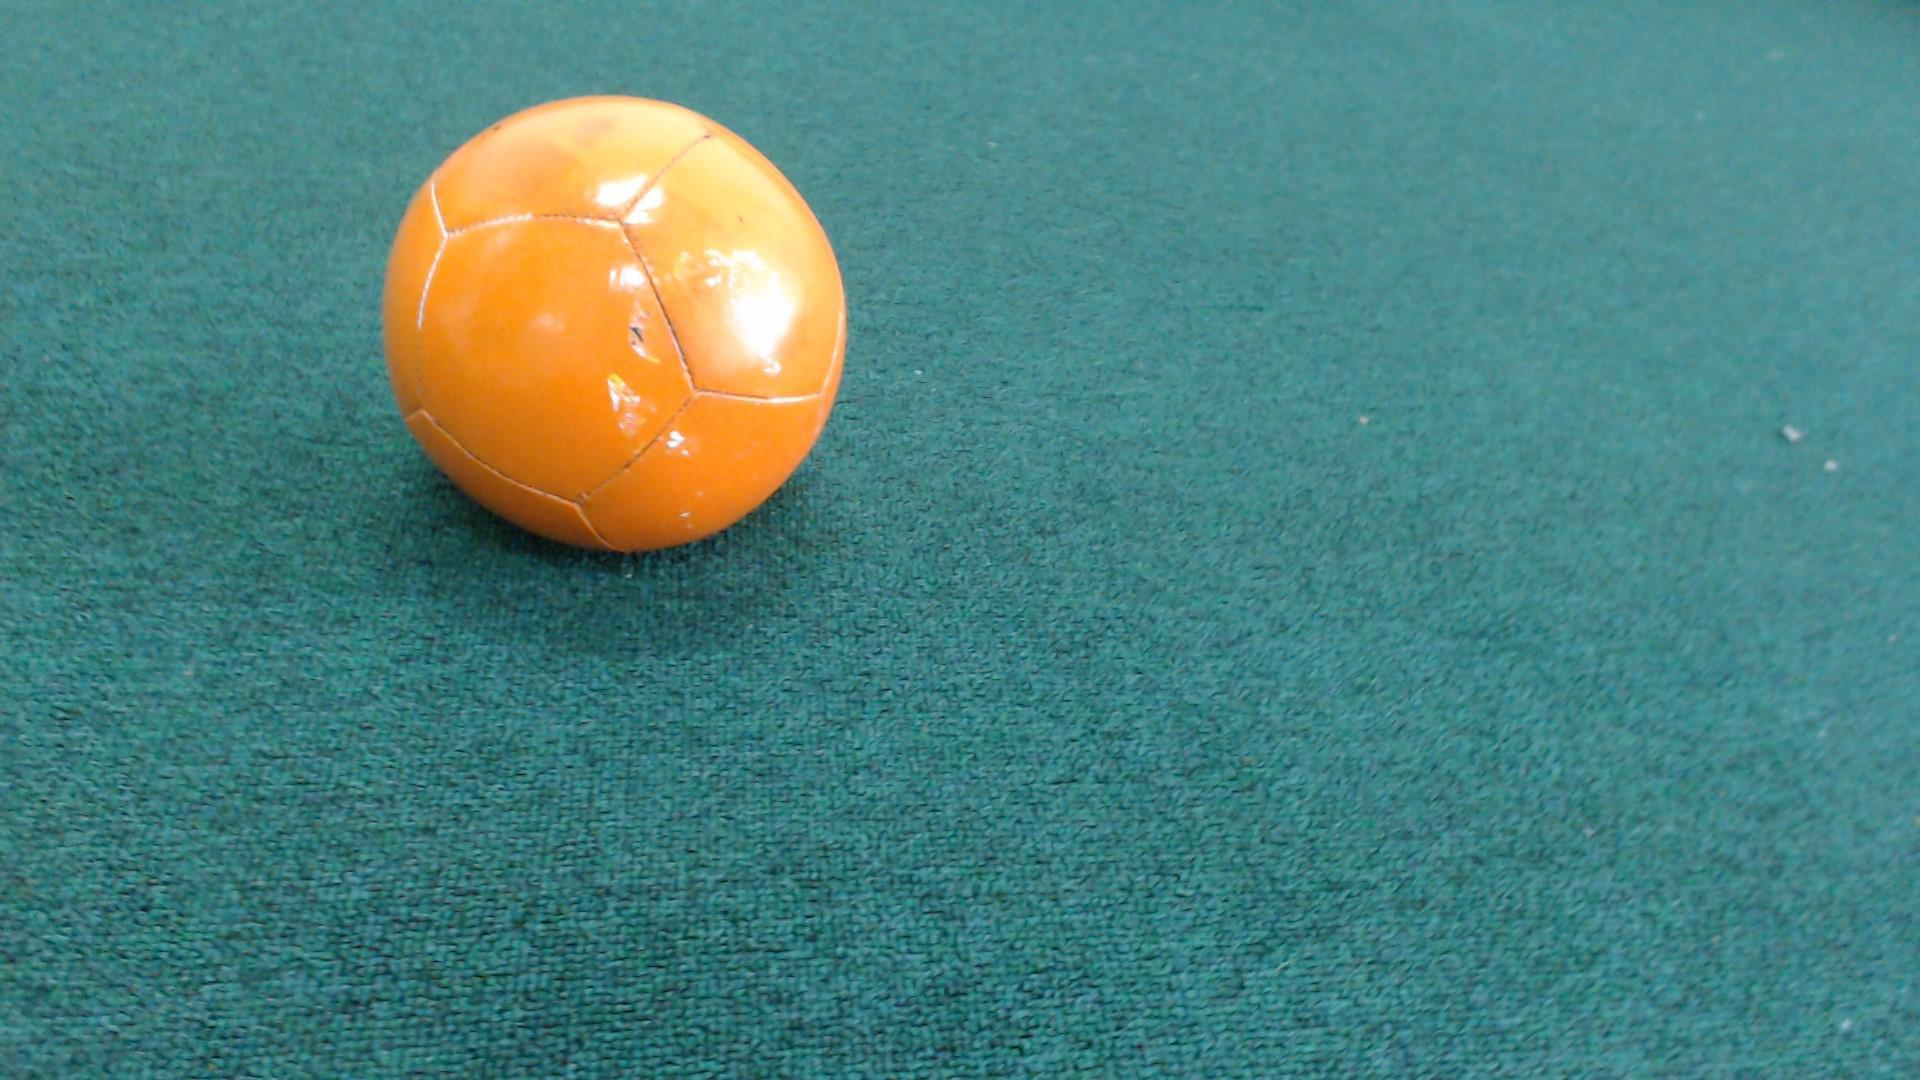bola: (367, 90, 852, 584)
